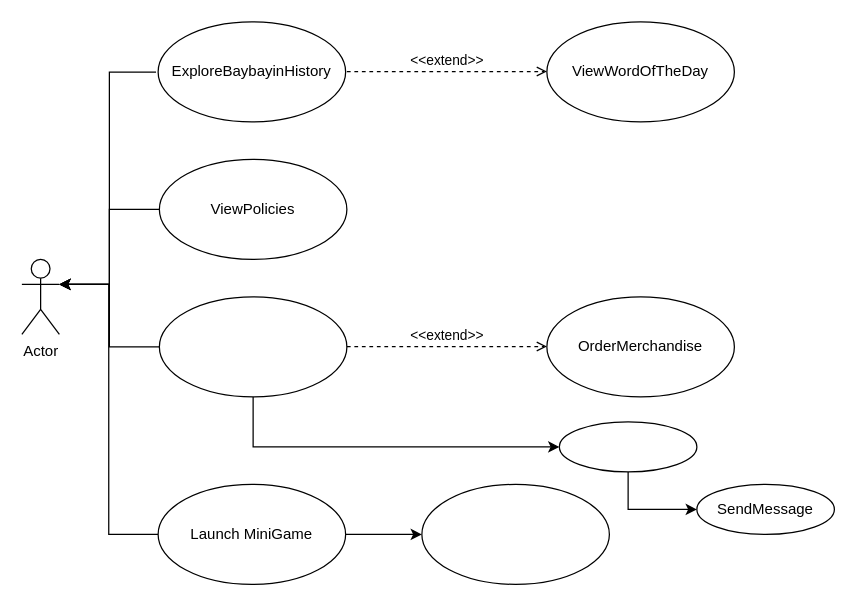
Some shapes in this 856 by 606 pixel diagram are drawn without their labels. The centre of each missing label's shape, as x and y in pixels:
BrowseMerchandise: the point at 252,346
Play Mini Game: the point at 515,533
Visit Social Media Page: the point at 627,446
